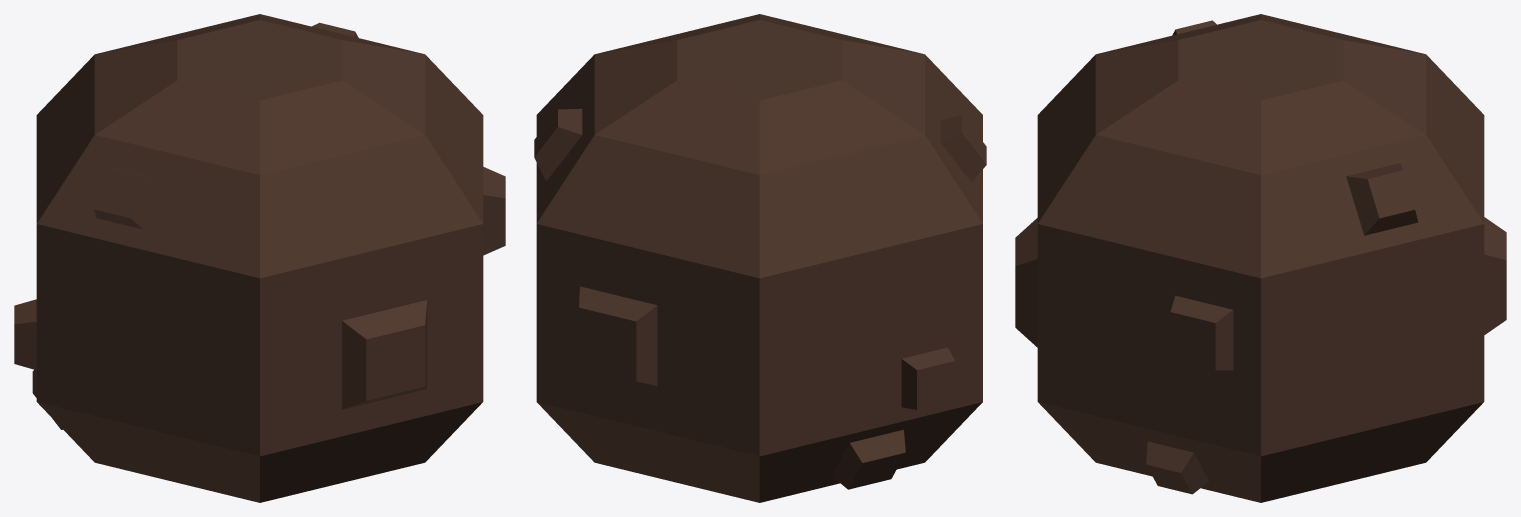
File: Meteorite.glb
3 views of the same model, side by side, from view 1: azimuth 30°, elevation 25°; view 2: azimuth 150°, elevation 25°; view 3: azimuth 270°, elevation 25° (orthographic).
Parts seen in each view (by area): view 1: meteor_detailed; view 2: meteor_detailed; view 3: meteor_detailed.
Boxes of the visible parts, x1,y1,x2,y2 form: meteor_detailed: (14,14,505,502); meteor_detailed: (534,14,986,502); meteor_detailed: (1015,14,1506,502).
Bounding box in the file's own units: 0.866 × 0.735 × 0.825.
